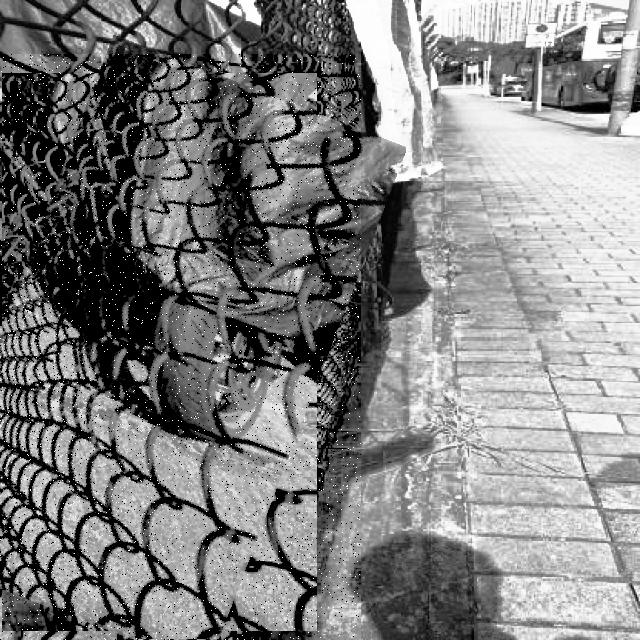fences: (0, 54, 361, 640)
